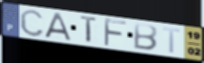A: (44, 11, 73, 42)
B: (132, 22, 159, 52)
C: (19, 8, 46, 38)
F: (102, 17, 128, 48)
T: (79, 15, 100, 45), (161, 26, 182, 55)
